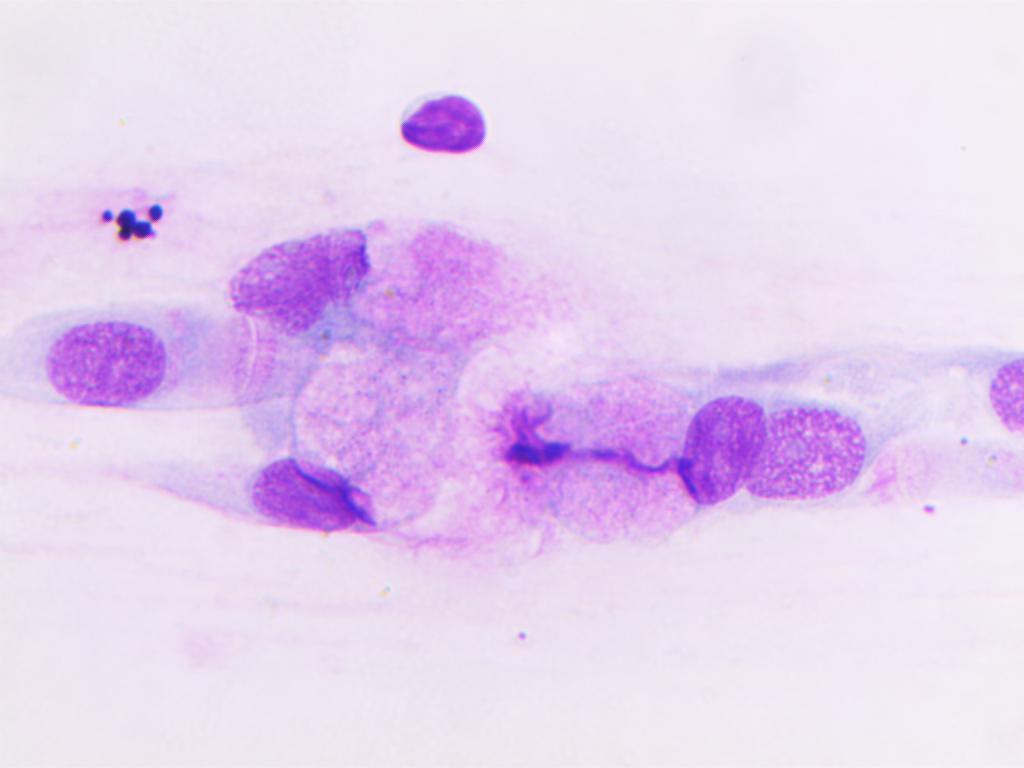artifact: (92, 188, 174, 243)
ciliated: (4, 255, 361, 444)
epithelial: (747, 365, 872, 525), (981, 340, 1024, 450)
goblet_cell: (215, 217, 603, 344), (503, 380, 740, 540), (251, 366, 432, 540)
lymphocyte: (387, 76, 500, 156)
